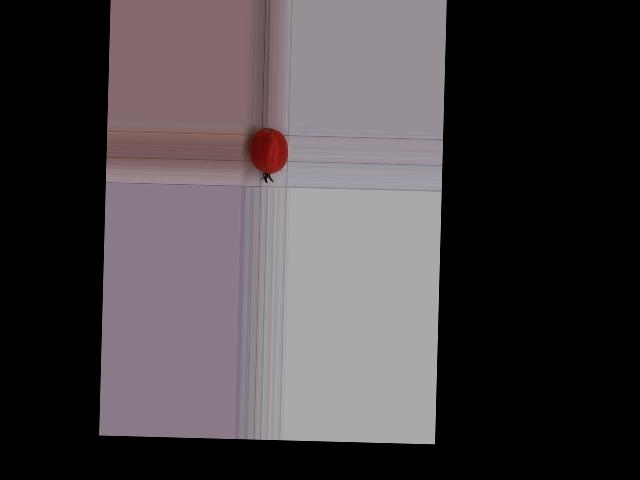tomato: (249, 127, 288, 173)
